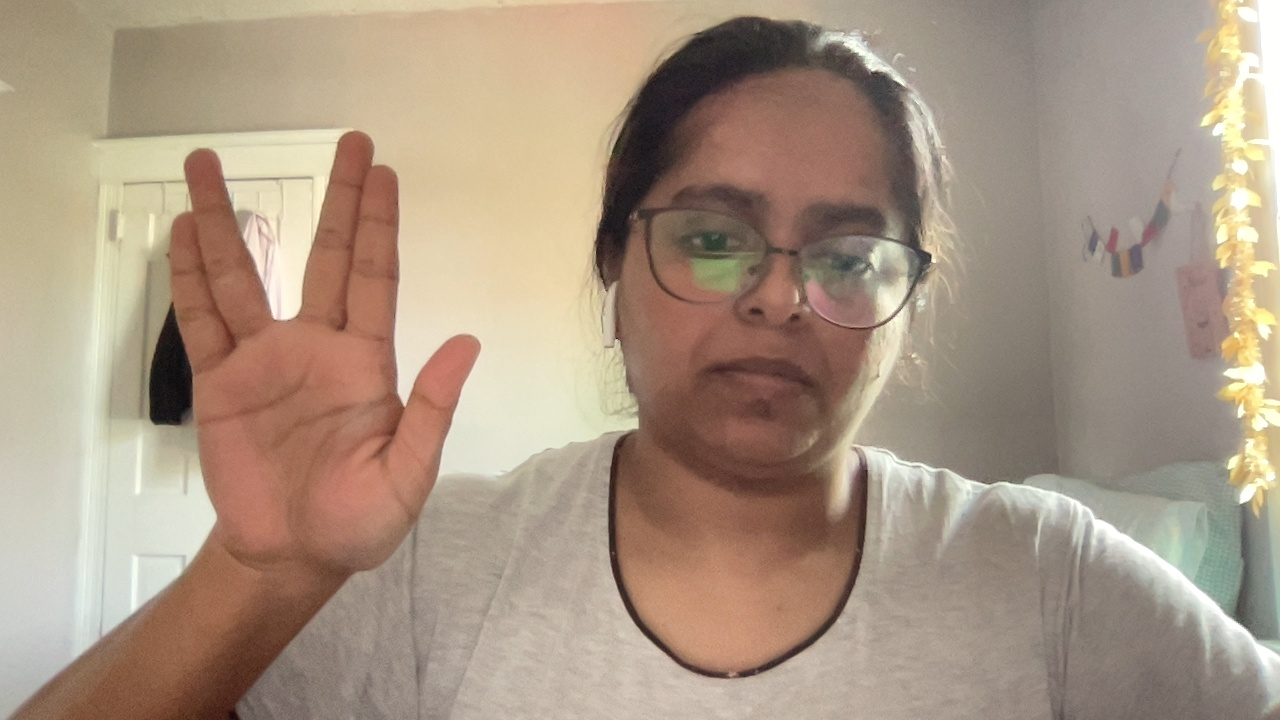LiveLong: (171, 131, 482, 573)
